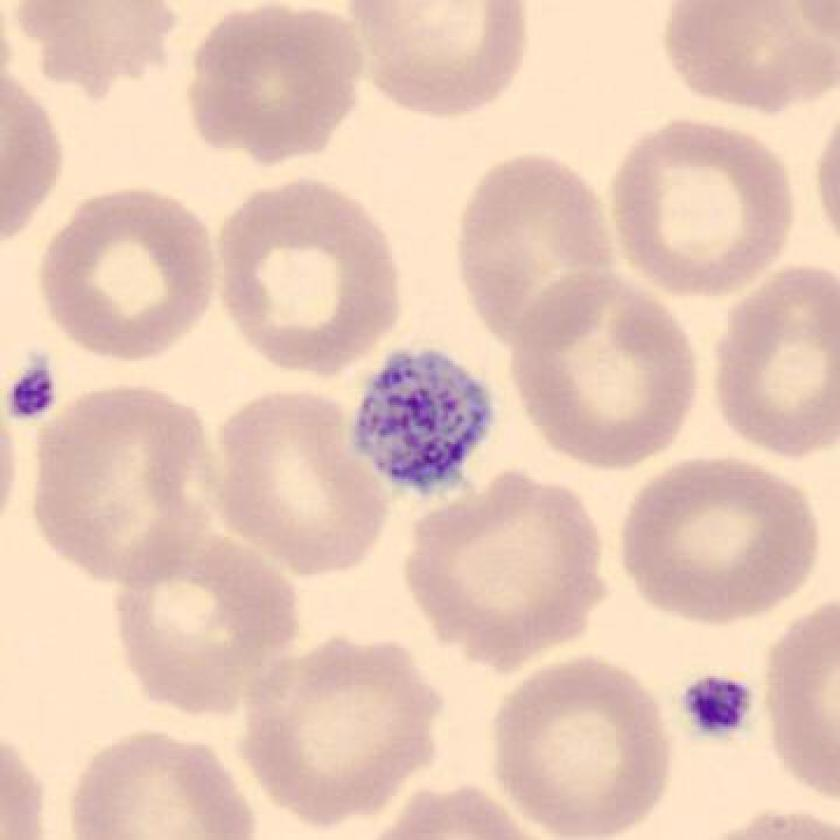platelets: (346, 344, 496, 499), (680, 668, 757, 742), (6, 355, 66, 427)
